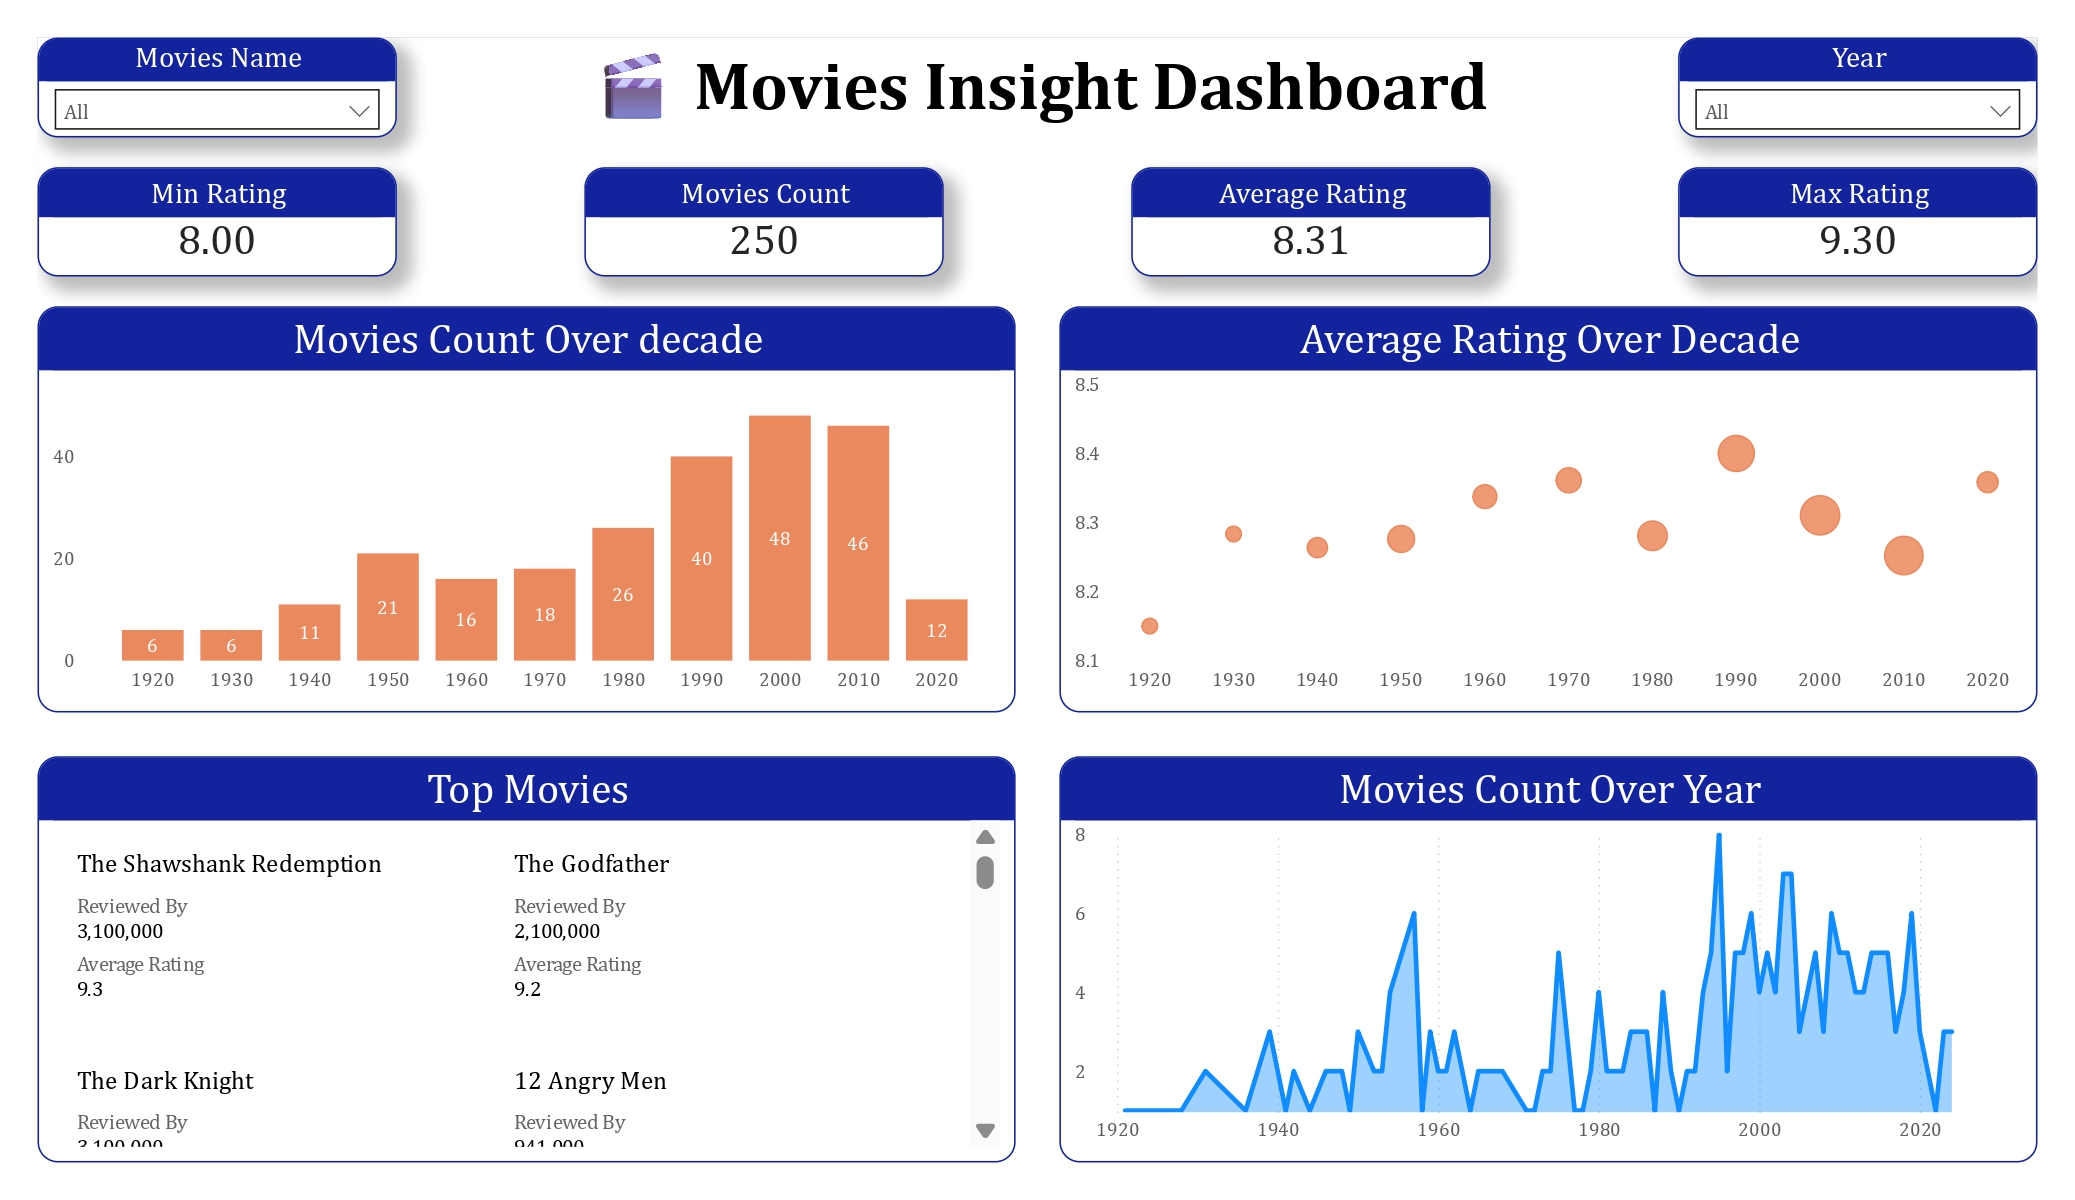

The dashboard page shown, as its layout file describes it:
{"tool":"powerbi","page":{"name":"Page 1","canvas":[1280,720],"ordinal":0},"visuals":[{"type":"card","title":"Movies Count","fields":{"Values":["Table 1.Movies Count"]},"box":[350,82.7,230,70],"z":0},{"type":"card","title":"Min Rating","fields":{"Values":["Table 1.Min Rating"]},"box":[0,82.7,230,70],"z":1000},{"type":"card","title":"Max Rating","fields":{"Values":["Table 1.Max Rating"]},"box":[1050,82.7,230,70],"z":2000},{"type":"card","title":"Average Rating","fields":{"Values":["Table 1.Average Rating"]},"box":[700,82.7,230,70],"z":3000},{"type":"textbox","box":[0,0,1280,63.3],"z":4000},{"type":"columnChart","title":"Movies Count Over decade","fields":{"Category":["Table 1.decade","Table 1.Published On"],"Y":["Table 1.Movies Count"]},"box":[0,172,626,260],"z":5000},{"type":"slicer","title":"Movies Name","fields":{"Values":["Table 1.Movies Name"]},"box":[0,0,230,63.8],"z":6000},{"type":"slicer","title":"Year","fields":{"Values":["Table 1.decade","Table 1.Published On"]},"box":[1050,0,230,63.8],"z":7000},{"type":"multiInfoCards9D184BB3D4E44A139DA08142D76EFD36","title":"Top Movies","fields":{"informations":["Min(Table 1.Reviewed By in Numeric)","Sum(Table 1.Rating)"],"title":["Table 1.Movies Name"]},"box":[0,460,626,260],"z":8000},{"type":"scatterChart","title":"Average Rating Over Decade","fields":{"X":["Table 1.decade"],"Y":["Avg(Table 1.Rating)"],"Size":["Table 1.Movies Count"]},"box":[654,172,626,260],"z":9000},{"type":"stackedAreaChart","title":"Movies Count Over Year","fields":{"Category":["Table 1.Published On"],"Y":["CountNonNull(Table 1.Movies Name)"]},"box":[654,460,626,260],"z":10000}]}

Visuals, with their boxes in screenshot pixels (x1, y1, x2, y2):
"Movies Count" card: bbox=(584, 167, 944, 276)
"Min Rating" card: bbox=(38, 167, 397, 276)
"Max Rating" card: bbox=(1678, 167, 2038, 276)
"Average Rating" card: bbox=(1131, 167, 1491, 276)
textbox: bbox=(38, 38, 2038, 136)
"Movies Count Over decade" columnChart: bbox=(38, 306, 1016, 712)
"Movies Name" slicer: bbox=(38, 38, 397, 137)
"Year" slicer: bbox=(1678, 38, 2038, 137)
"Top Movies" multiInfoCards9D184BB3D4E44A139DA08142D76EFD36: bbox=(38, 756, 1016, 1162)
"Average Rating Over Decade" scatterChart: bbox=(1059, 306, 2038, 712)
"Movies Count Over Year" stackedAreaChart: bbox=(1059, 756, 2038, 1162)
